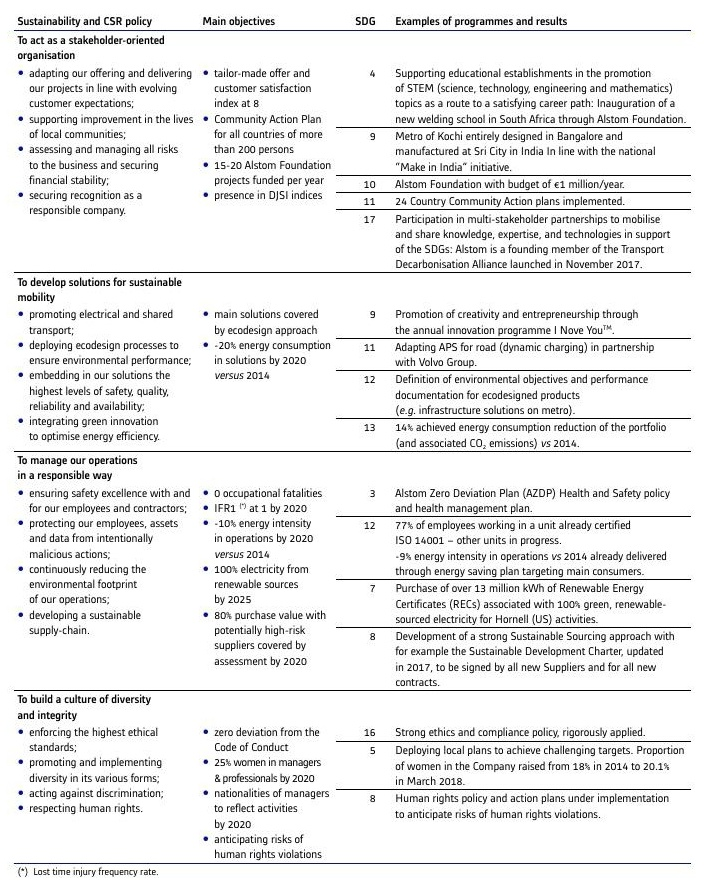table: (0, 0, 712, 883)
